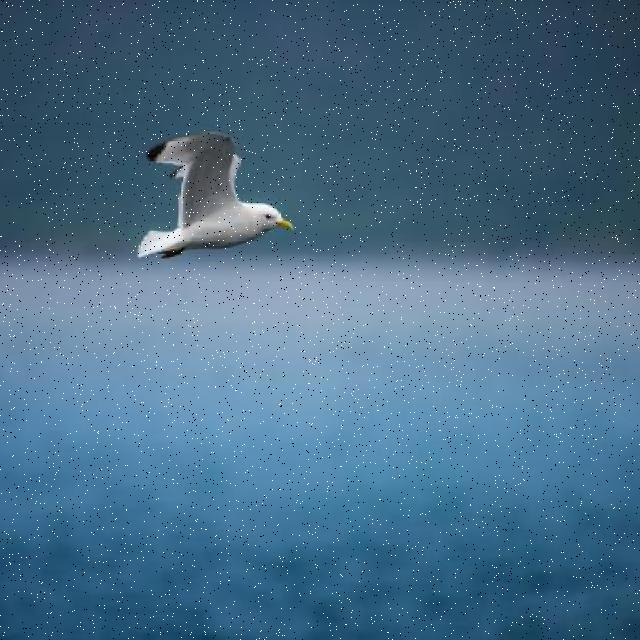bird: (138, 132, 294, 260)
